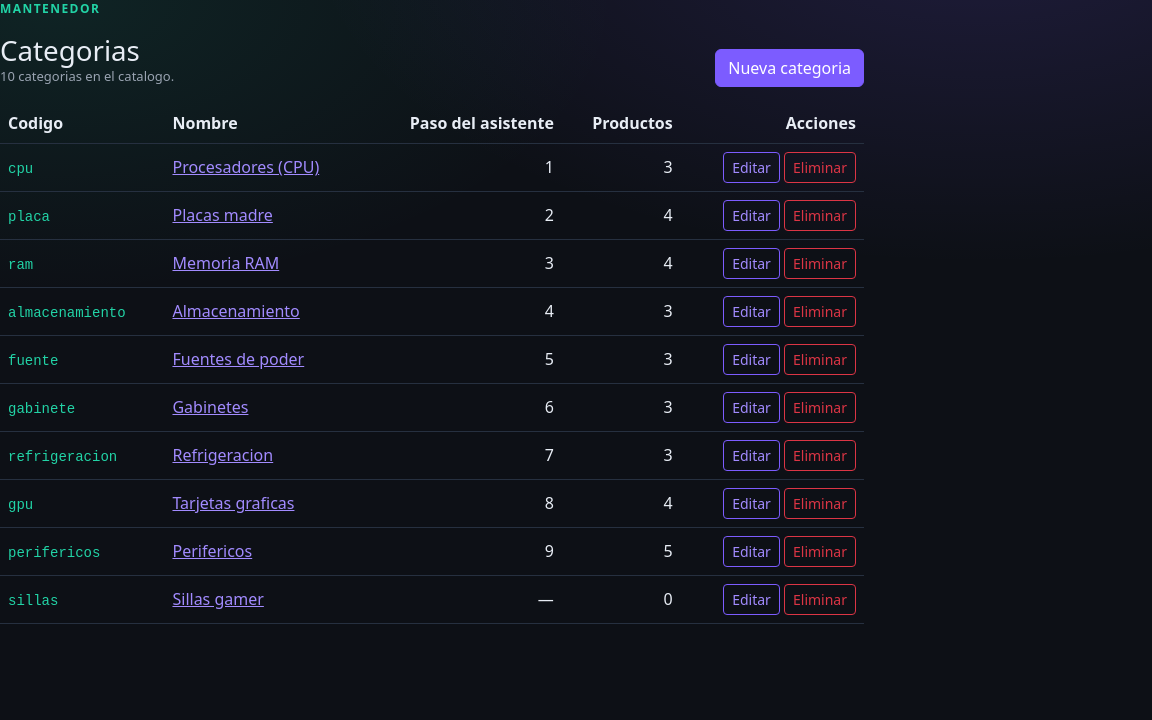
Test case: admin / Categorias › eliminar (RF-25 CA4) › pide confirmacion y cancelar no elimina
The image size is (1152, 720).
Click the button "Eliminar" in the row of "Sillas gamer" at (820, 599), box [784,584,856,615]
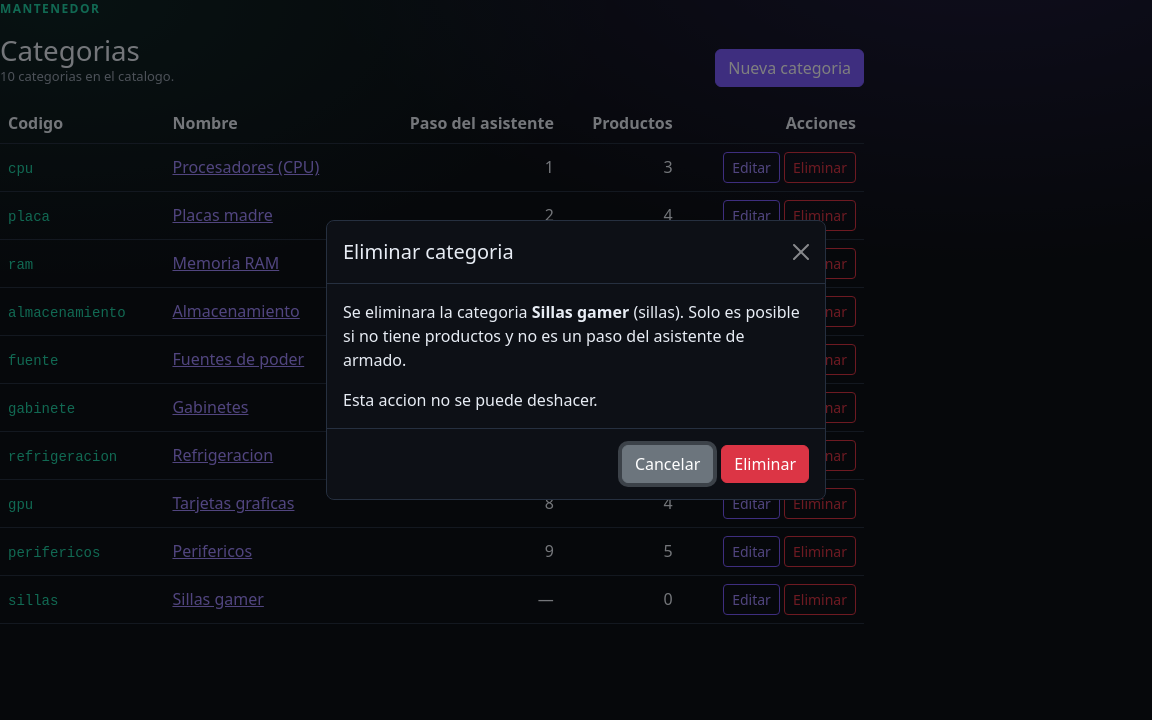
Expected: the dialog "Eliminar categoria" shows "Sillas gamer", [532,301,629,323]
Click the button "Cancelar" at (668, 464), box [622,445,713,483]
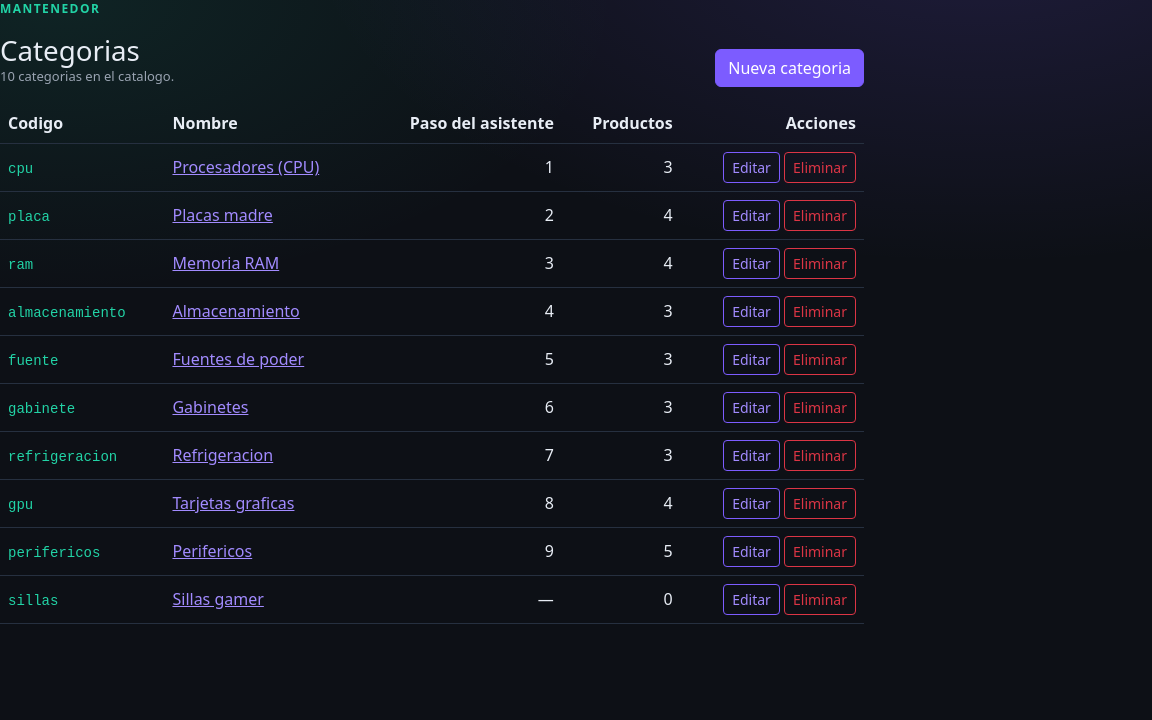
Expected: the dialog is gone
